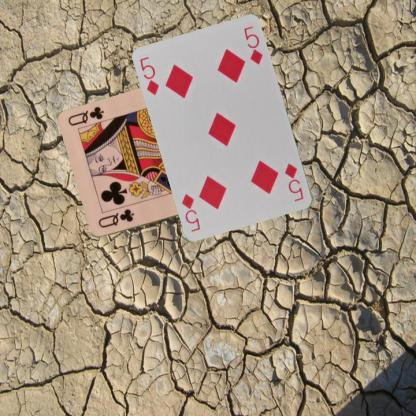5d: (282, 160, 305, 202), (138, 54, 161, 96)
Qc: (96, 206, 136, 230)
